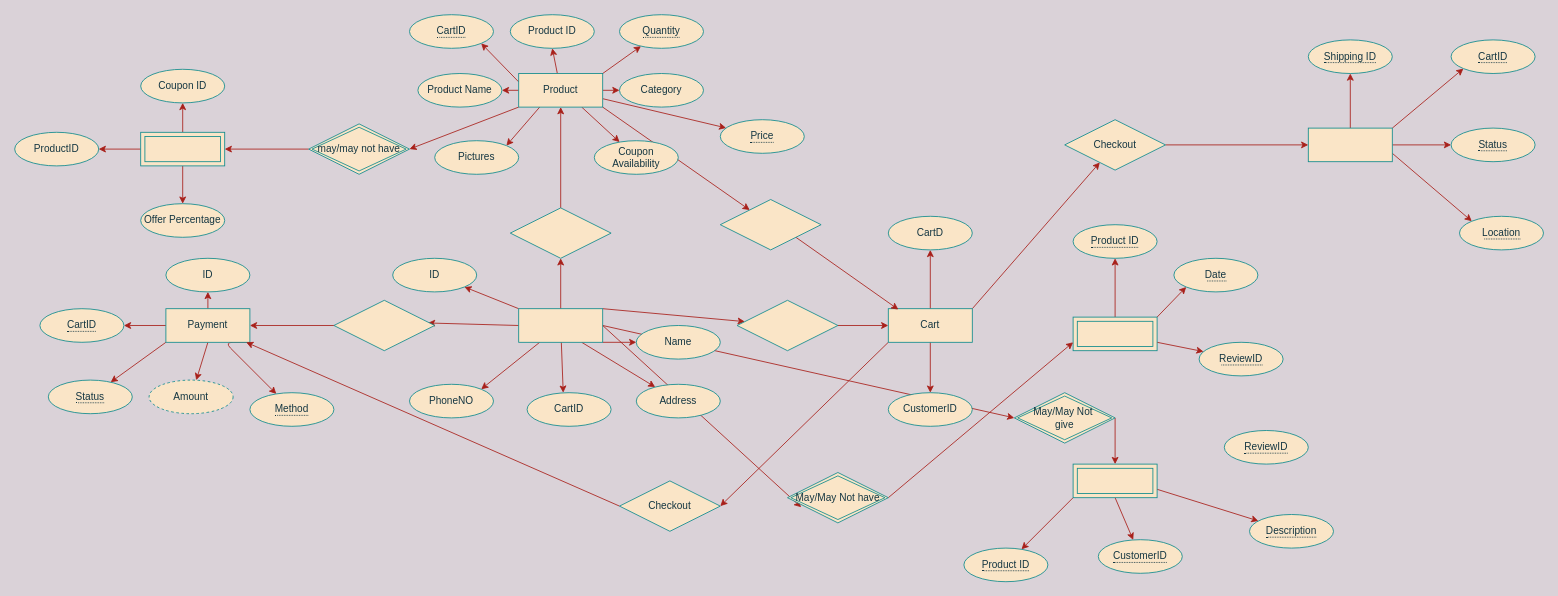
Some shapes in this 1558 by 596 pixel diagram are drawn without their labels. Each missing label, with the centre of its shape:
Buy: the point at 560,232
Coupon: the point at 182,148
Customer: the point at 560,325
Have: the point at 787,325
Pay: the point at 384,325
Product History: the point at 1114,333
Review: the point at 1114,480
Shipping: the point at 1349,144
Stored: the point at 770,224
